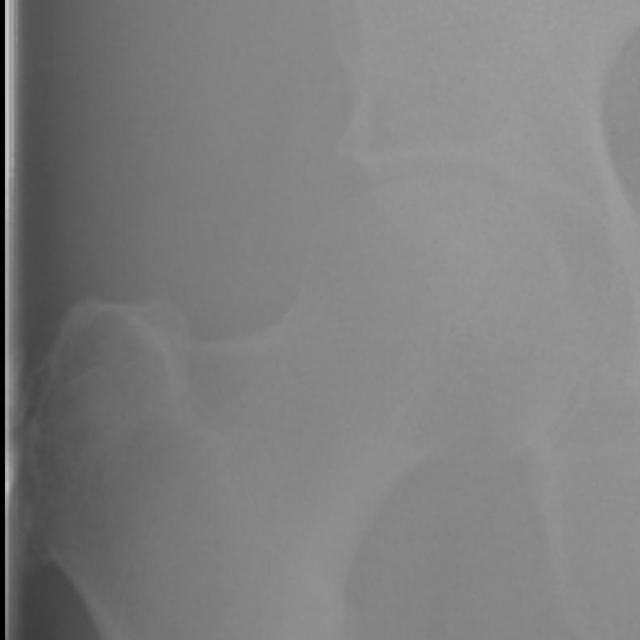Fitted_femural_head: (300, 176, 432, 300)
